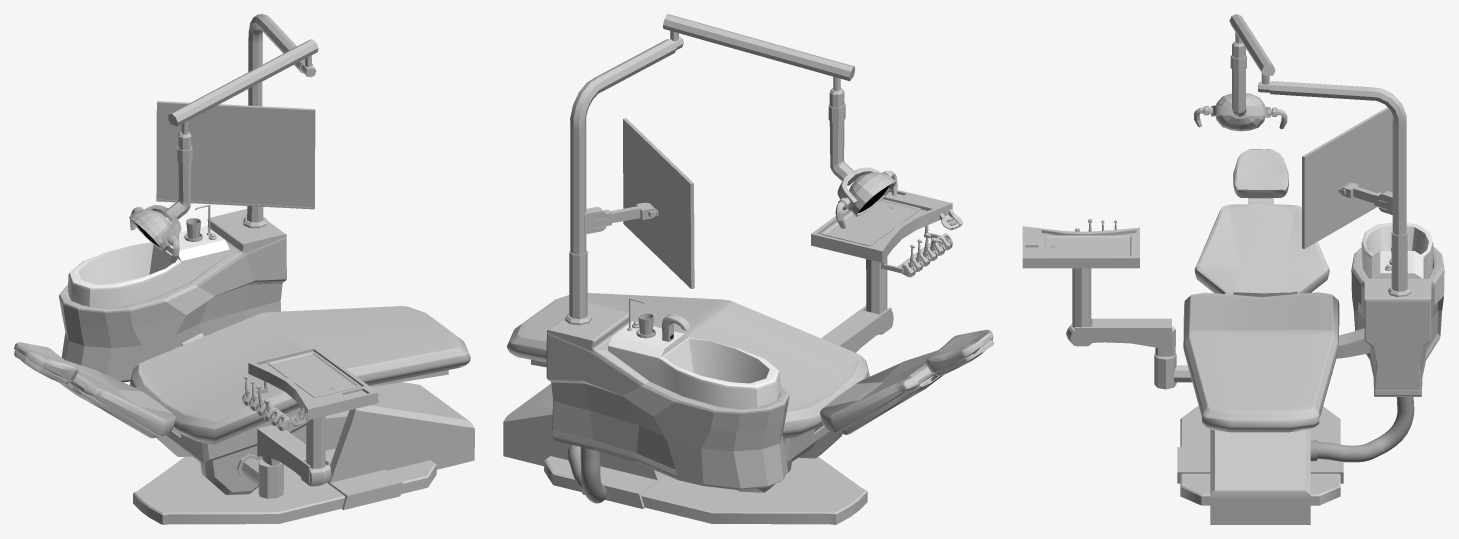
Rendered from dental_chair1.fbx.
The picture shows the model from 3 angles, left to right: view 1: azimuth 30°, elevation 25°; view 2: azimuth 150°, elevation 25°; view 3: azimuth 270°, elevation 25°; orthographic projection. The views are drawn at different scales.
Parts seen in each view (by area): view 1: pCube15, pasted__pCube47, pCube52, pCube18, pCube19, pasted__polySurface3, pCube12, polySurface1, pCylinder26, pasted__pCylinder21, pCube55, polySurface6 (+10 smaller); view 2: pasted__pCube47, pCube15, pCube19, pasted__polySurface3, pCube52, pasted__pCylinder21, pCube18, pCube12, pCylinder26, polySurface1, polySurface6, pCube55 (+10 smaller); view 3: pCube15, pCube18, pCube12, pasted__pCube47, pCube52, pasted__pCylinder21, pCube19, polySurface1, pasted__polySurface3, monnted_holder, pCube13, pCylinder48 (+7 smaller).
Part boxes in pixels (<box>): pCube15: <box>129,306,470,444</box>; pasted__pCube47: <box>59,209,286,382</box>; pCube52: <box>156,101,315,209</box>; pCube18: <box>325,382,474,509</box>; pCube19: <box>133,456,436,524</box>; pasted__polySurface3: <box>67,226,229,308</box>; pCube12: <box>66,360,175,436</box>; polySurface1: <box>248,346,378,420</box>; pCylinder26: <box>168,39,318,126</box>; pasted__pCylinder21: <box>243,14,316,228</box>; pCube55: <box>267,351,361,397</box>; polySurface6: <box>130,121,192,263</box>; pasted__pCube47: <box>546,302,789,489</box>; pCube15: <box>507,293,869,438</box>; pCube19: <box>544,456,867,524</box>; pasted__polySurface3: <box>608,321,780,409</box>; pCube52: <box>623,118,694,288</box>; pasted__pCylinder21: <box>565,31,683,325</box>; pCube18: <box>503,383,666,508</box>; pCube12: <box>820,350,937,432</box>; pCylinder26: <box>663,14,854,81</box>; polySurface1: <box>811,189,952,262</box>; polySurface6: <box>828,76,897,228</box>; pCube55: <box>820,199,920,246</box>; pCube15: <box>1183,292,1339,432</box>; pCube18: <box>1177,429,1343,524</box>; pCube12: <box>1194,203,1329,297</box>; pasted__pCube47: <box>1351,246,1444,396</box>; pCube52: <box>1302,107,1392,248</box>; pasted__pCylinder21: <box>1258,73,1411,296</box>; pCube19: <box>1180,406,1340,505</box>; polySurface1: <box>1022,226,1139,268</box>; pasted__polySurface3: <box>1361,222,1433,278</box>; monnted_holder: <box>1075,318,1171,353</box>; pCube13: <box>1233,149,1288,197</box>; pCylinder48: <box>1317,397,1414,462</box>.
Size of the model in its own units: 207 by 198 by 188.
